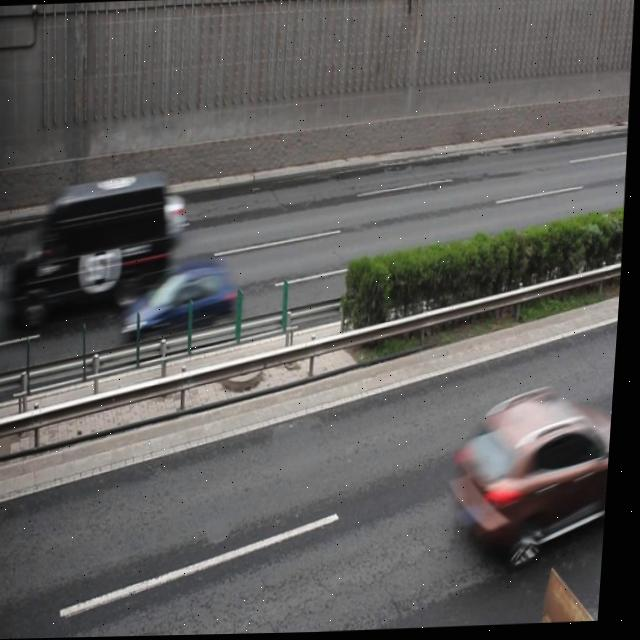car: (452, 387, 616, 569), (126, 257, 244, 349)
truck: (22, 172, 185, 324)
